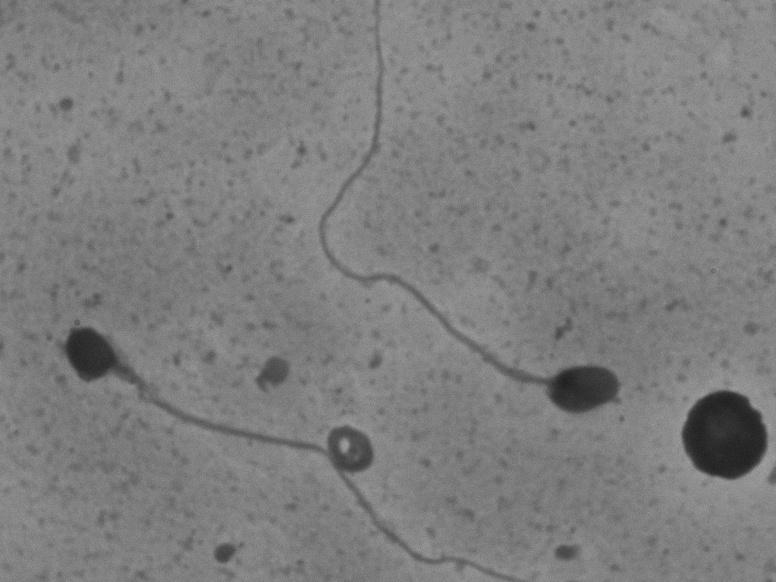Abnormal: (277, 159, 682, 428), (44, 282, 339, 522)
